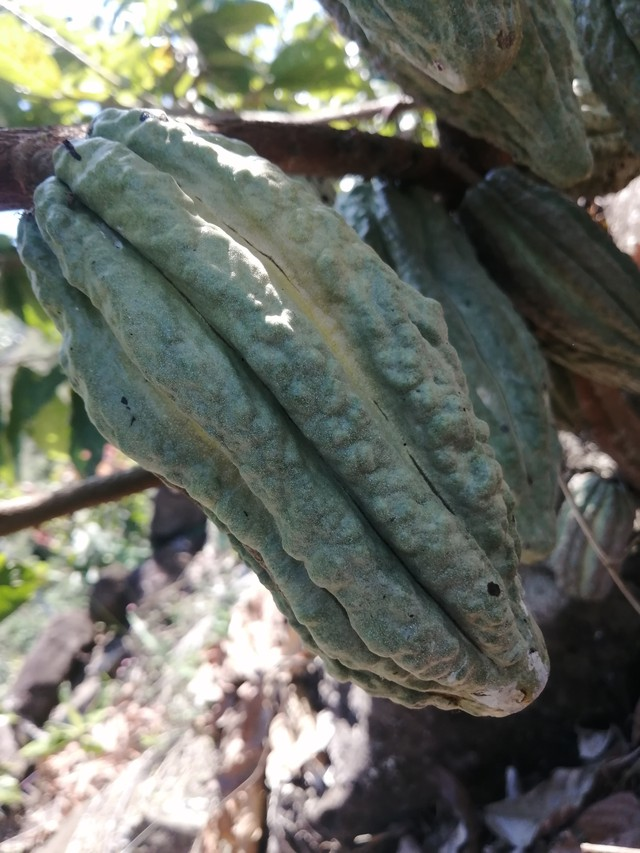Health: (11, 101, 568, 730)
